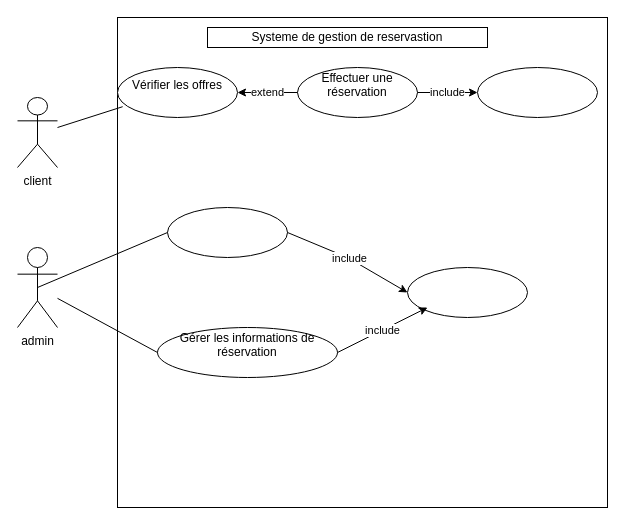
Some shapes in this 625 by 525 pixel diagram are drawn without their labels. Here are the shapes that lost their labels. From the top down, the centre of each, then its label:
the point at 537,92: Compléter le formulaire
the point at 227,232: Ajouter des activités
the point at 467,292: Authentification
